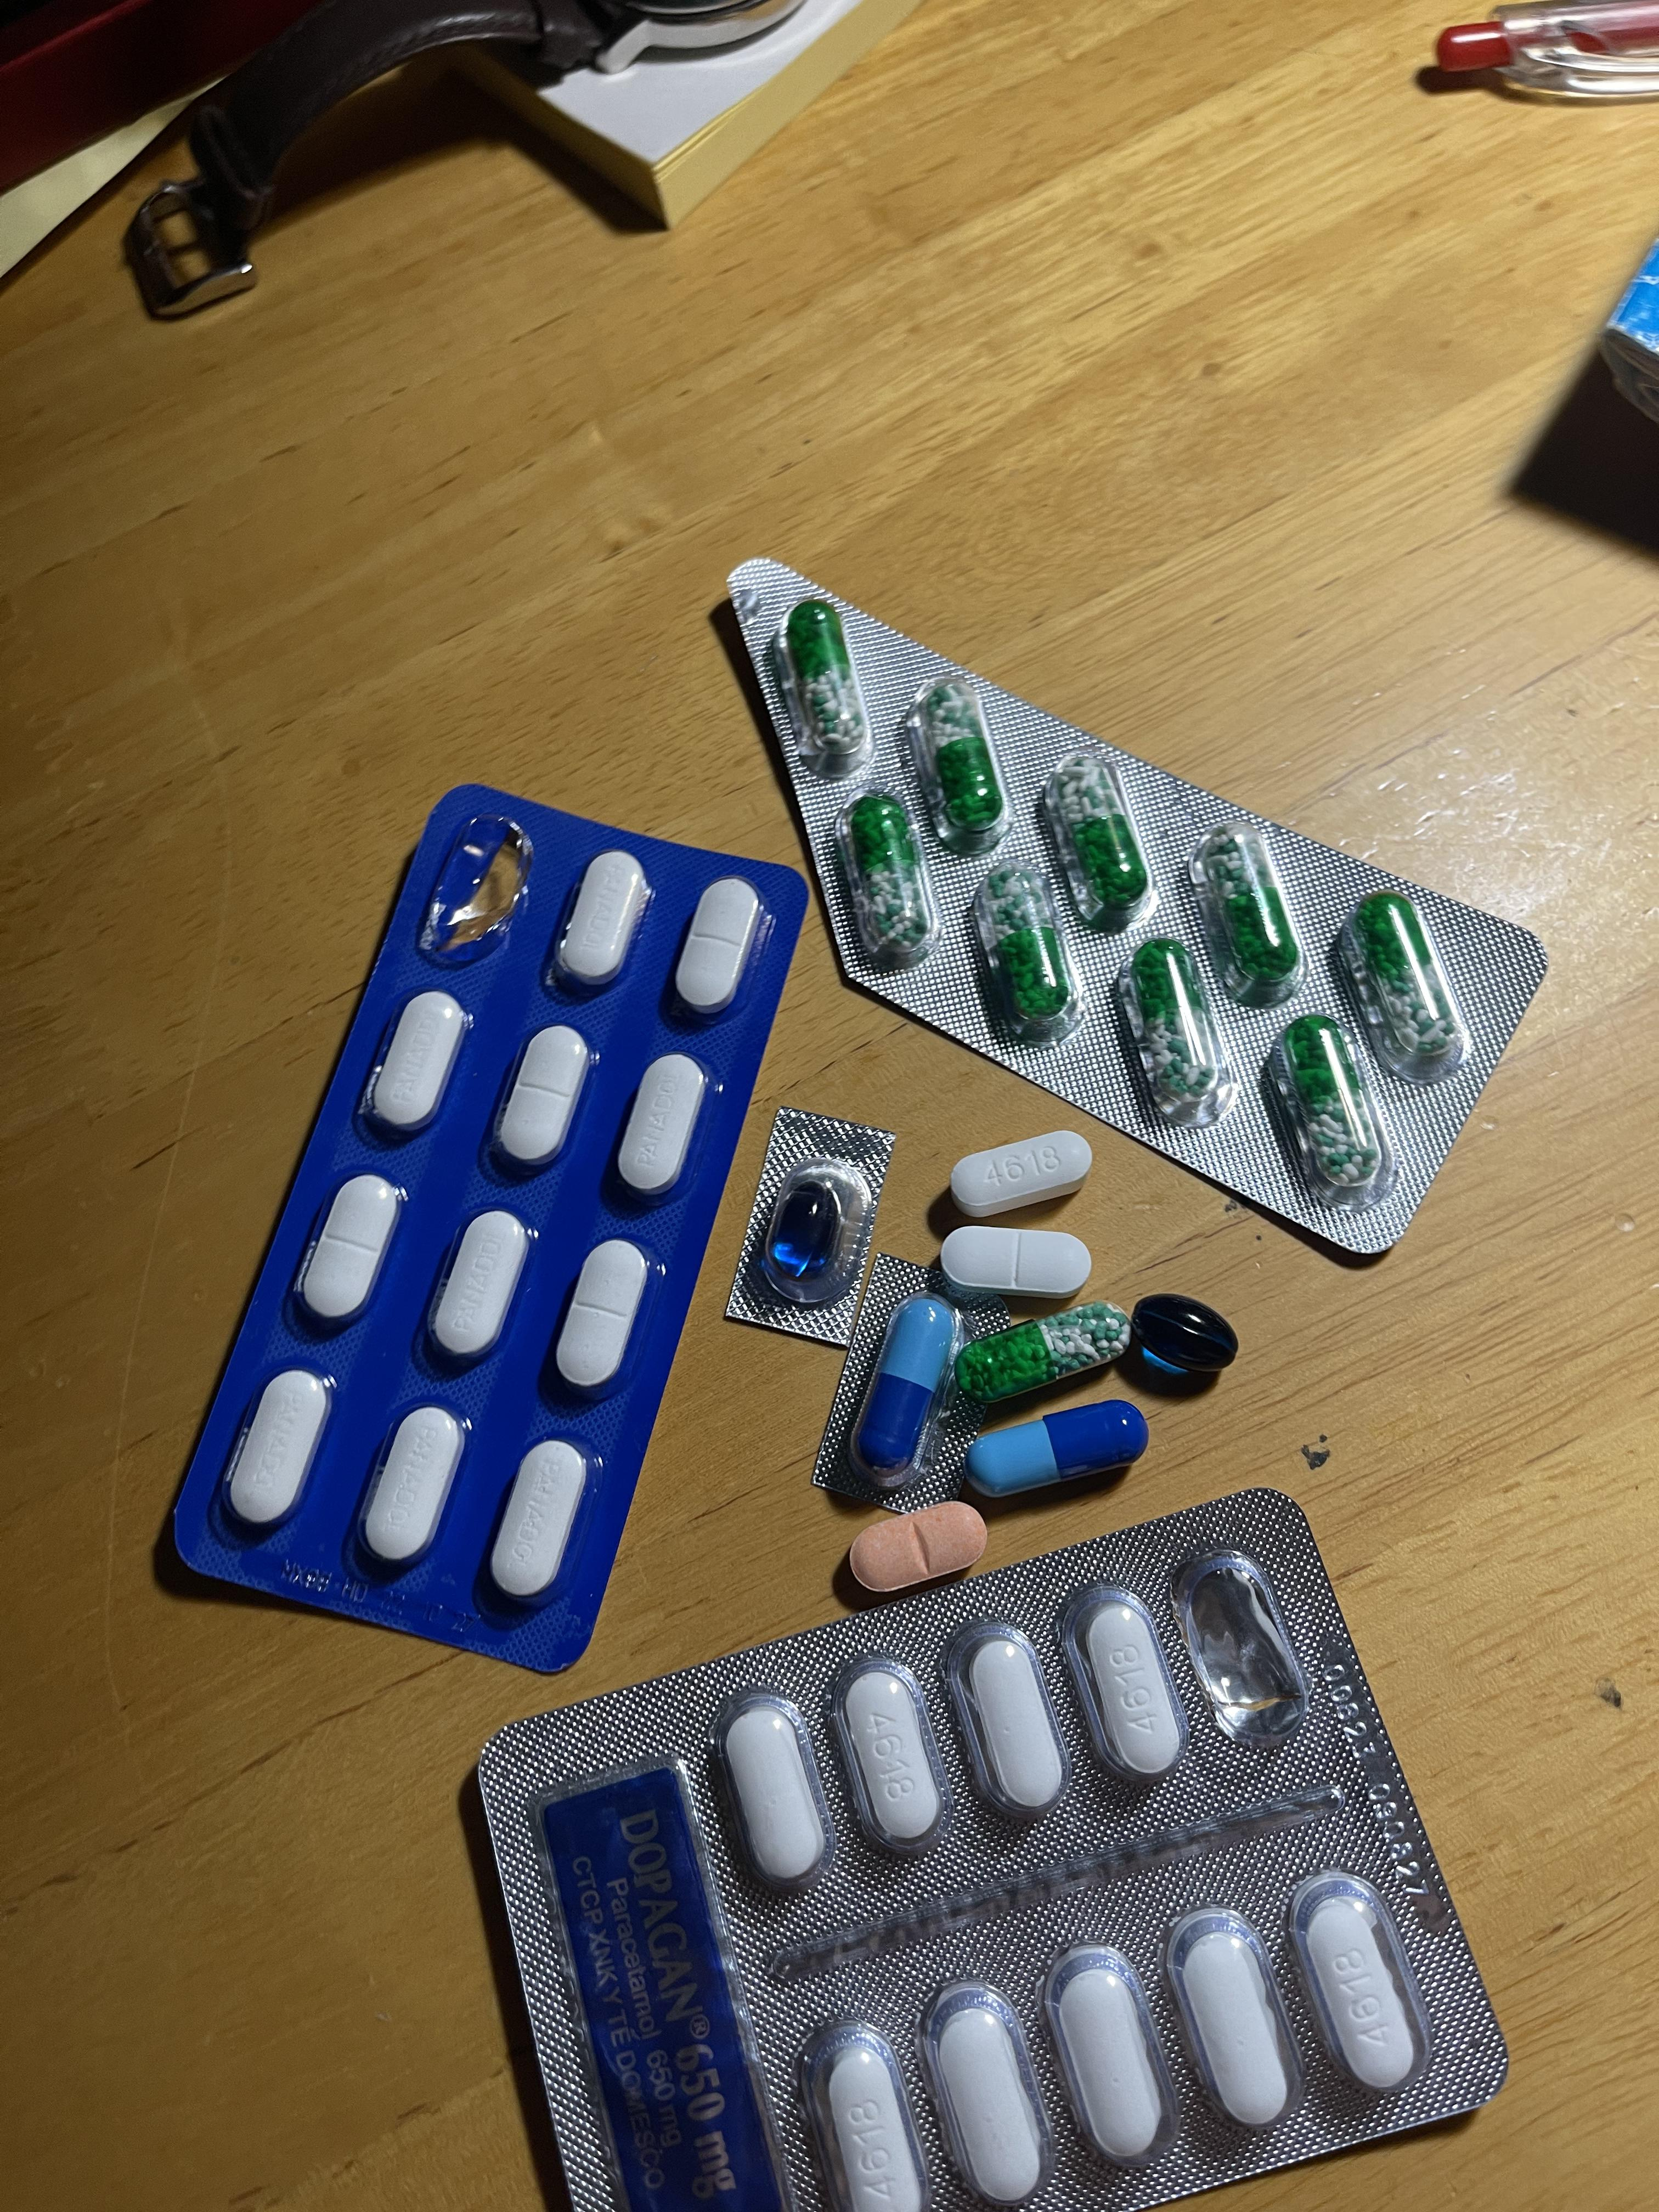Lincomyxin_500mg: (1127, 1292, 1239, 1385), (767, 1181, 840, 1280)
Loratadine_10mg: (850, 1501, 990, 1592)
Paracetamol_350mg: (362, 1407, 467, 1569), (228, 1371, 331, 1533), (488, 1440, 587, 1604), (301, 1172, 404, 1327), (430, 1209, 532, 1362), (554, 1238, 650, 1395), (366, 991, 467, 1139), (495, 1026, 591, 1169), (617, 1052, 711, 1197), (554, 850, 652, 989), (674, 876, 763, 1015), (939, 1224, 1093, 1303)
Paracetamol_500mg: (1175, 1928, 1288, 2132), (931, 2001, 1044, 2200), (1053, 1961, 1161, 2160), (1300, 1902, 1412, 2092), (721, 1705, 819, 1886), (965, 1634, 1063, 1808), (816, 2048, 918, 2207), (1086, 1606, 1180, 1771), (845, 1674, 936, 1843), (950, 1132, 1094, 1217)
Paracetamol_650mg: (951, 1301, 1131, 1406), (971, 848, 1068, 1022), (1352, 900, 1462, 1054), (1284, 1017, 1378, 1181), (1127, 942, 1218, 1111), (1202, 834, 1297, 984), (786, 603, 866, 773), (917, 679, 1000, 838), (1054, 758, 1145, 902), (849, 798, 931, 954)
pill: (850, 1292, 962, 1487), (965, 1399, 1148, 1498)
